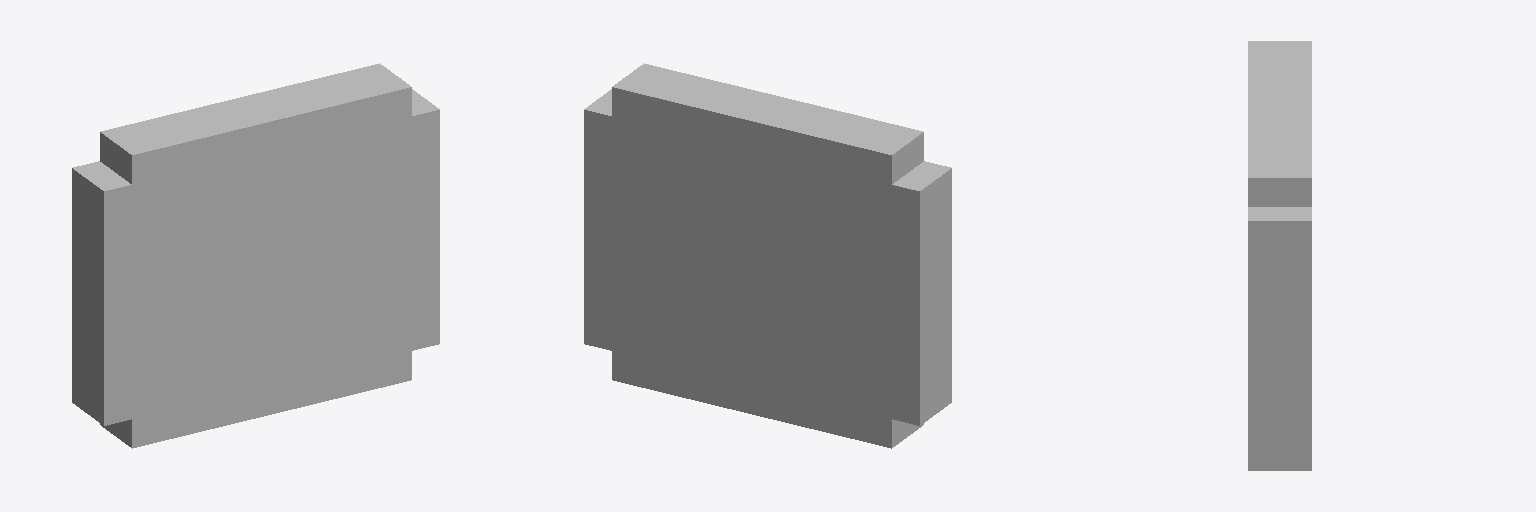
Rendered from warning.obj.
The picture shows the model from 3 angles: view 1: azimuth 30°, elevation 25°; view 2: azimuth 150°, elevation 25°; view 3: azimuth 270°, elevation 25°; orthographic projection.
Size of the model in its own units: 12 by 10 by 2.